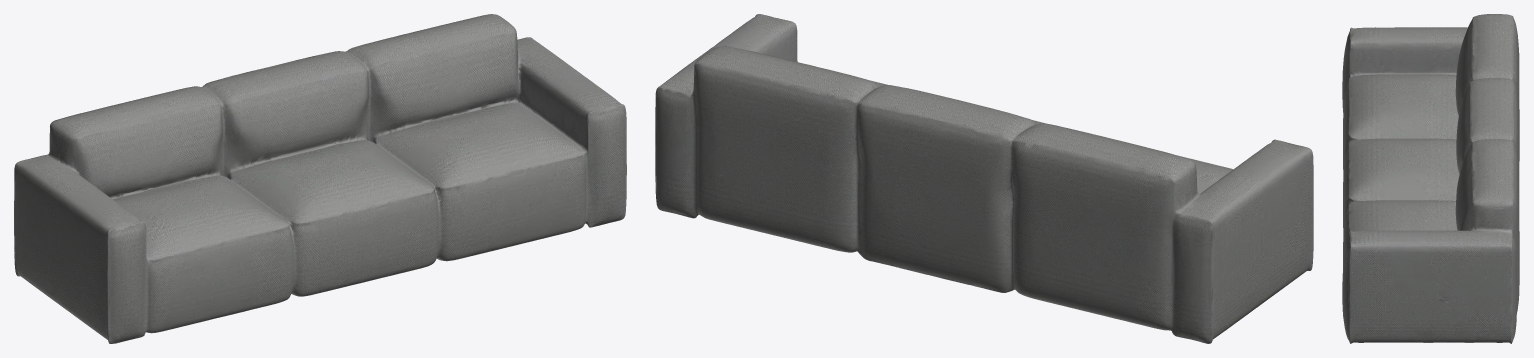
Rendered from right-sofa.glb.
3 views of the same model, side by side, from view 1: azimuth 30°, elevation 25°; view 2: azimuth 150°, elevation 25°; view 3: azimuth 270°, elevation 25° (orthographic). The views are drawn at different scales.
Parts seen in each view (by area): view 1: Meshy_AI_Grey_Haven_Sofa_20261119_texture; view 2: Meshy_AI_Grey_Haven_Sofa_20261119_texture; view 3: Meshy_AI_Grey_Haven_Sofa_20261119_texture.
Boxes of the visible parts, x1,y1,x2,y2 form: Meshy_AI_Grey_Haven_Sofa_20261119_texture: (14, 14, 626, 343); Meshy_AI_Grey_Haven_Sofa_20261119_texture: (655, 14, 1313, 343); Meshy_AI_Grey_Haven_Sofa_20261119_texture: (1342, 14, 1519, 343).
Size of the model in its own units: 2.8 by 0.8 by 0.95.
Materials: 1 (1 with a texture image).
